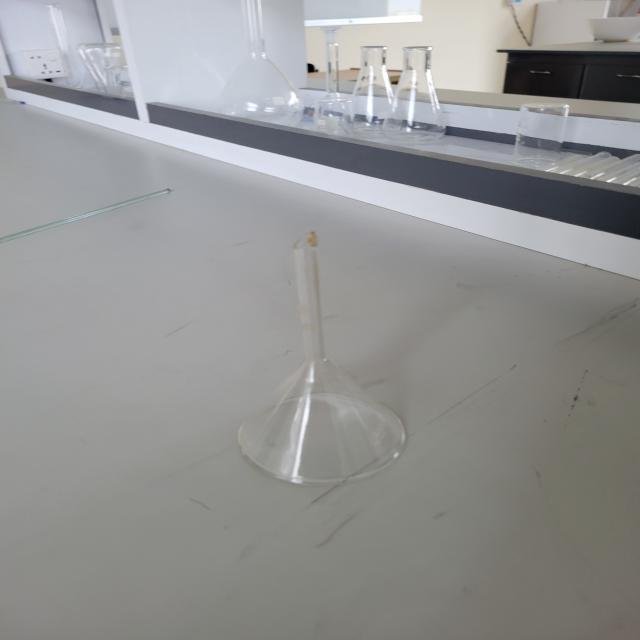Funnel: (206, 194, 457, 513)
